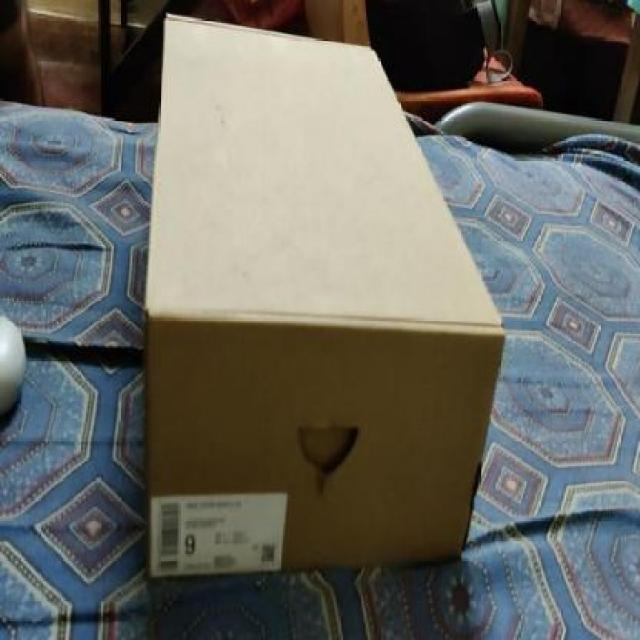box: (134, 4, 482, 572)
